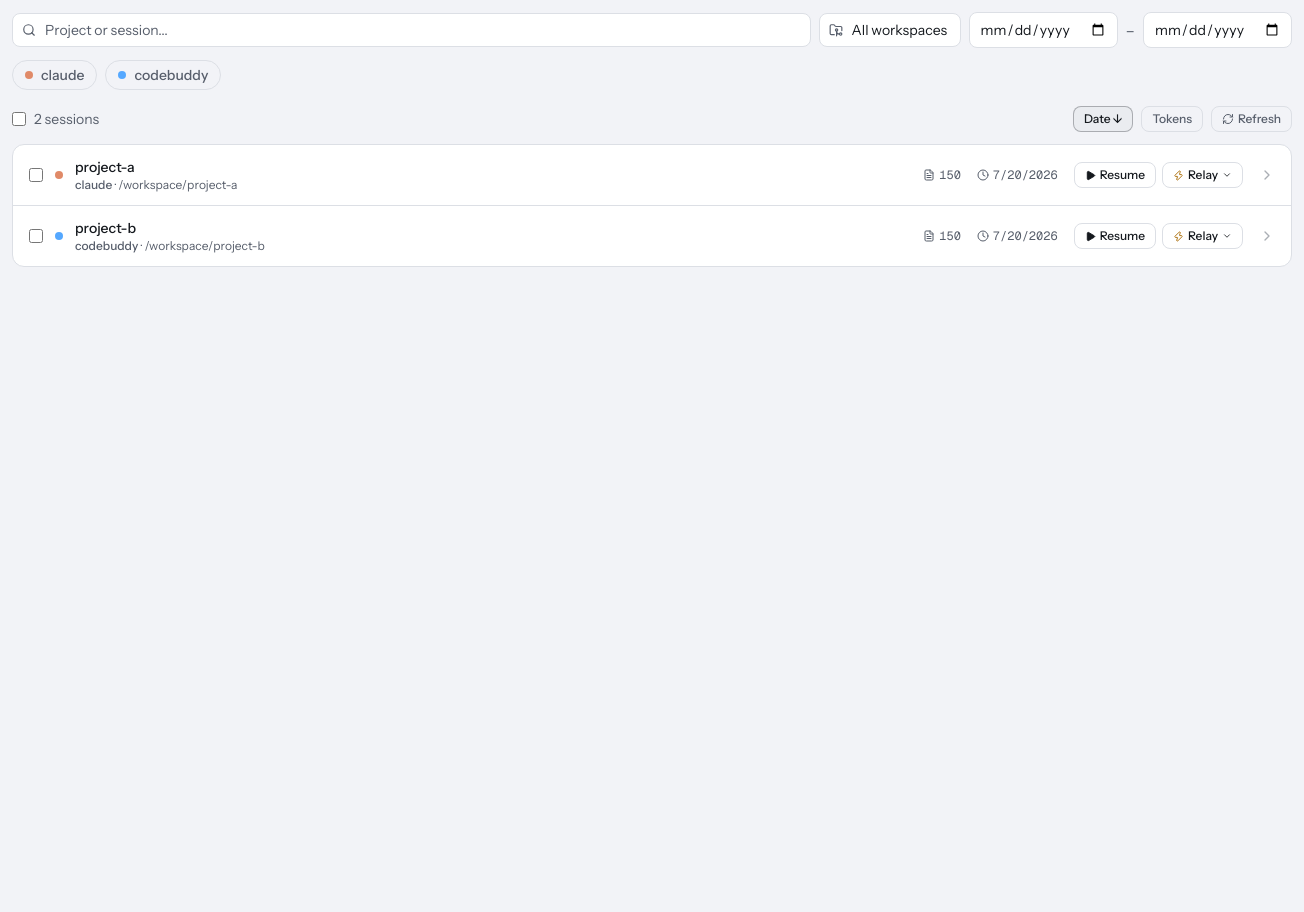
Scenario: SessionsPage session detail › one click on a row shows the conversation, not a link to another tab
The image size is (1304, 912).
Check: the text "2 sessions" is shown, box [12,109,99,129]
Click the button with aria-label "Open session session-a" at (105, 167), box [29,158,1275,192]
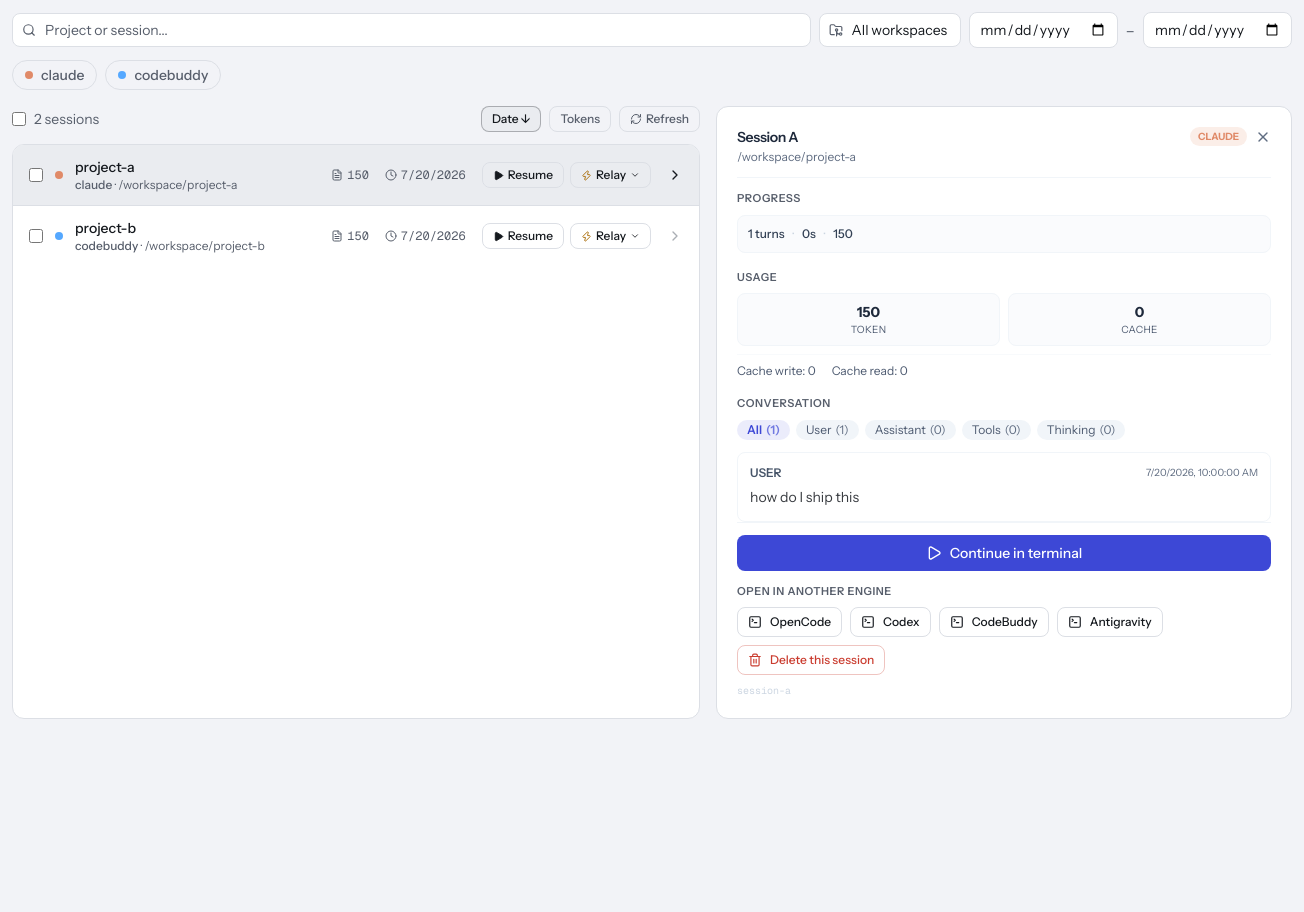
Check: the text "how do I ship this" is shown, box [750,488,859,506]
